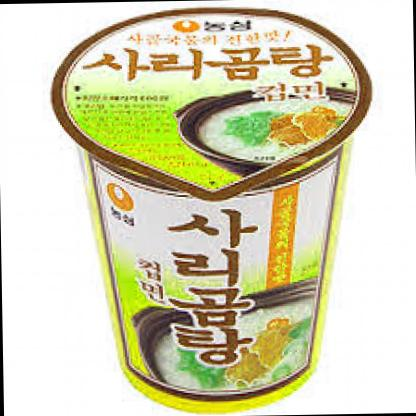Ramen: (47, 0, 371, 412)
